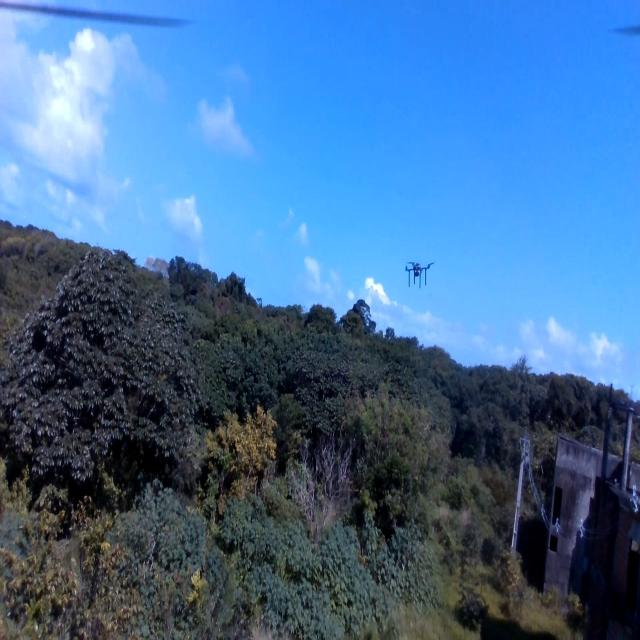-uav-: (394, 250, 437, 295)
